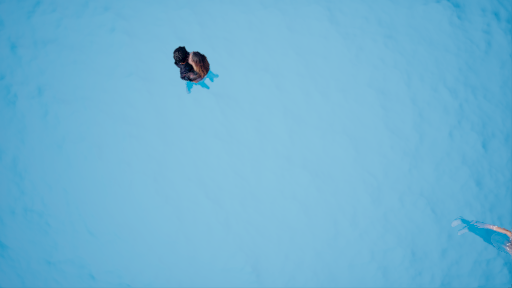person: (446, 210, 512, 261), (172, 34, 221, 97)
